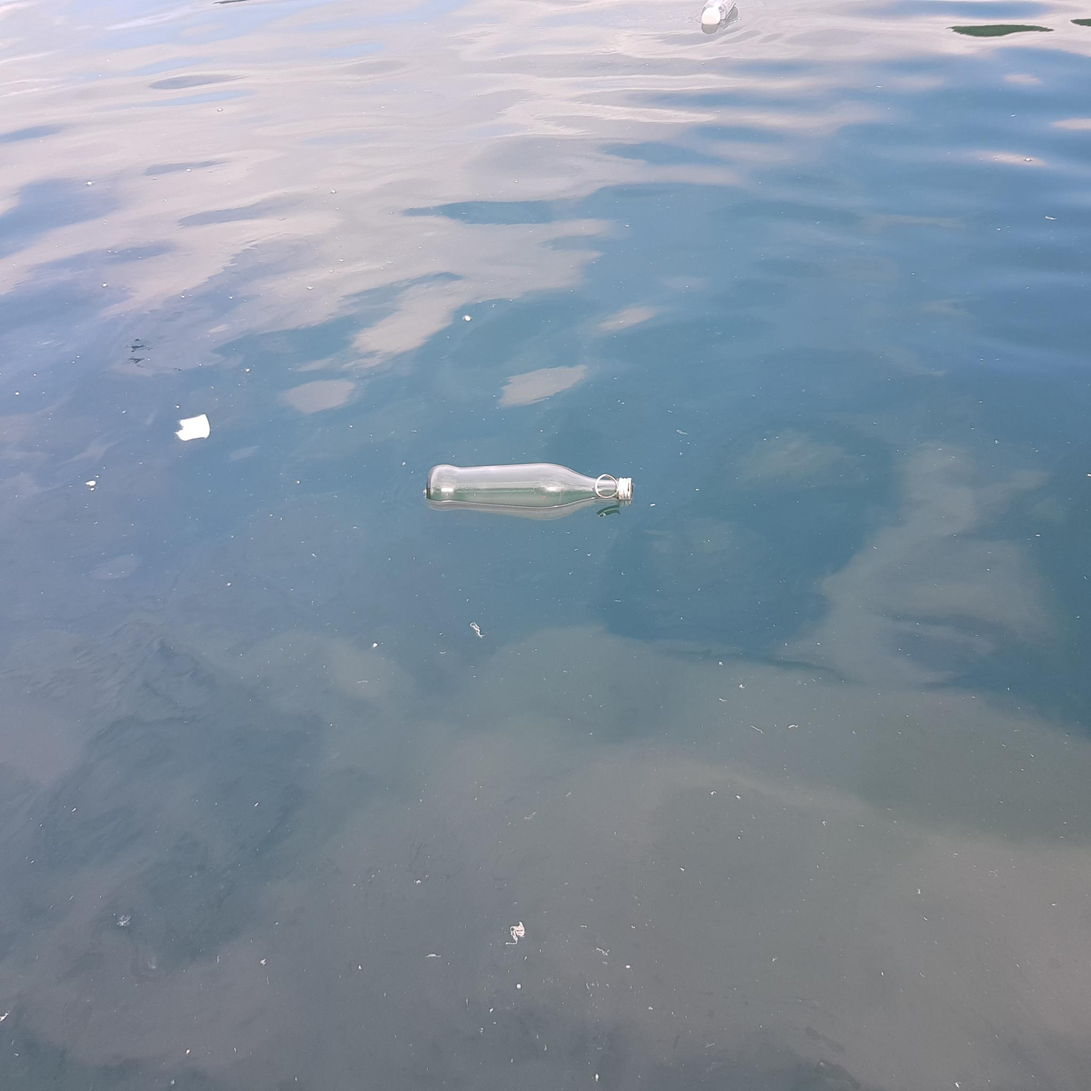sampah_terapung: (426, 463, 634, 521), (701, 1, 737, 26)
